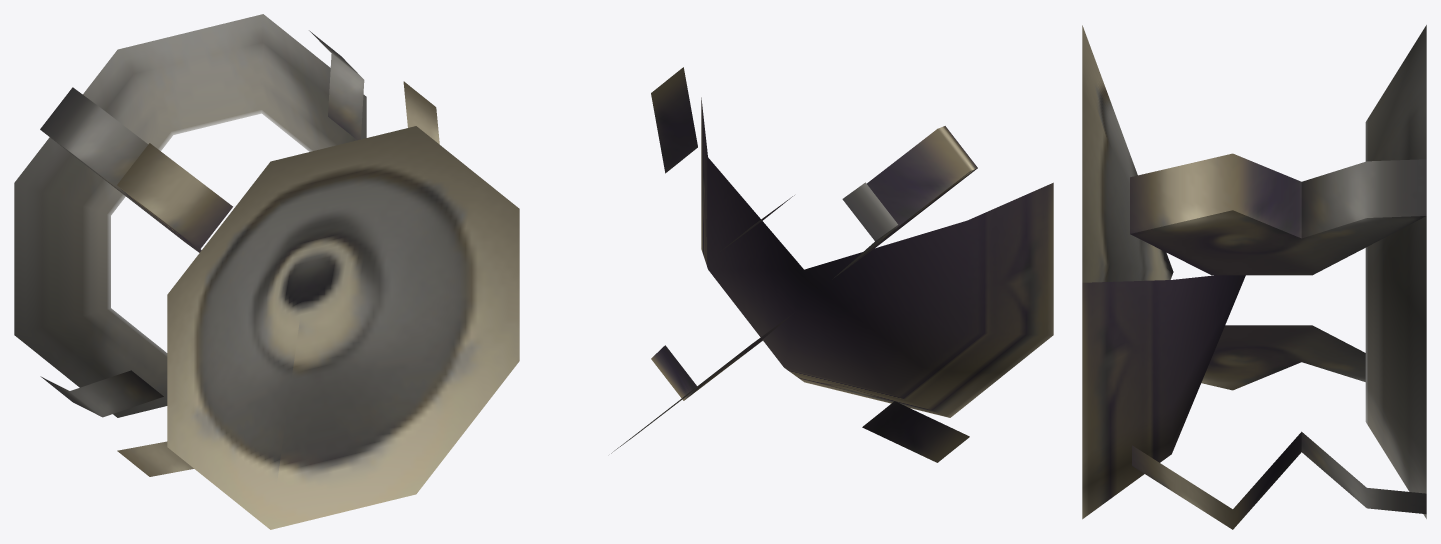
The model's file is ember well.glb.
The picture shows the model from 3 angles, left to right: view 1: azimuth 30°, elevation 25°; view 2: azimuth 150°, elevation 25°; view 3: azimuth 270°, elevation 25°; orthographic projection. The views are drawn at different scales.
Parts seen in each view (by area): view 1: ember_well.model-MeshNodes["mesh_torchsmall"]; view 2: ember_well.model-MeshNodes["mesh_torchsmall"]; view 3: ember_well.model-MeshNodes["mesh_torchsmall"].
Boxes of the visible parts, bbox=[...] form: ember_well.model-MeshNodes["mesh_torchsmall"]: bbox=[14, 14, 519, 529]; ember_well.model-MeshNodes["mesh_torchsmall"]: bbox=[611, 67, 1053, 462]; ember_well.model-MeshNodes["mesh_torchsmall"]: bbox=[1082, 25, 1426, 529].
Size of the model in its own units: 0.9958 by 0.9958 by 0.7492.
Materials: 1 (1 with a texture image).
